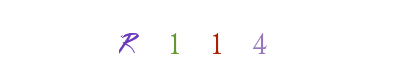1: (137, 0, 217, 80), (165, 0, 245, 80)
4: (176, 0, 256, 80)
R: (136, 0, 216, 80)
